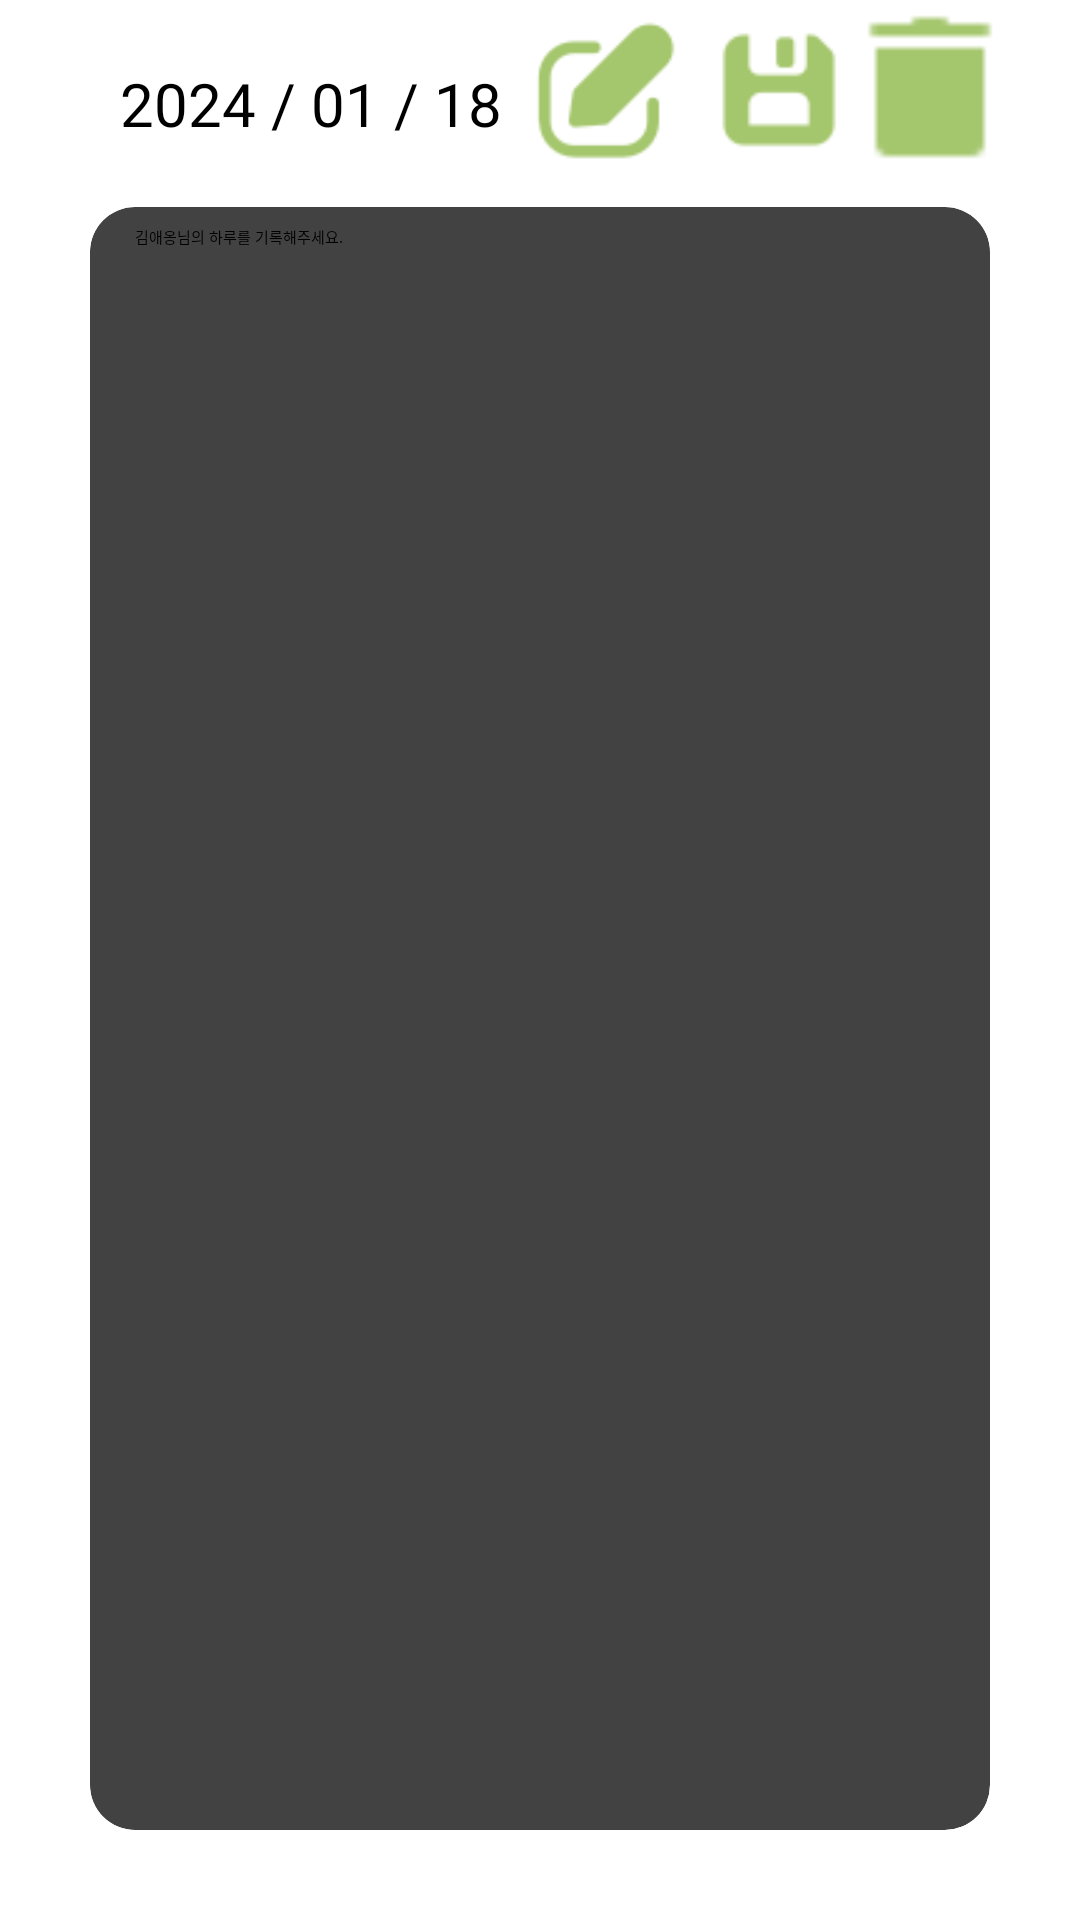

Locate icon controls on the screen. Image size 1080px x 1920px, boxes as (x1, y1, x2, y2).
save: (722, 33, 836, 147)
trash: (868, 16, 992, 158)
write: (538, 23, 675, 159)
